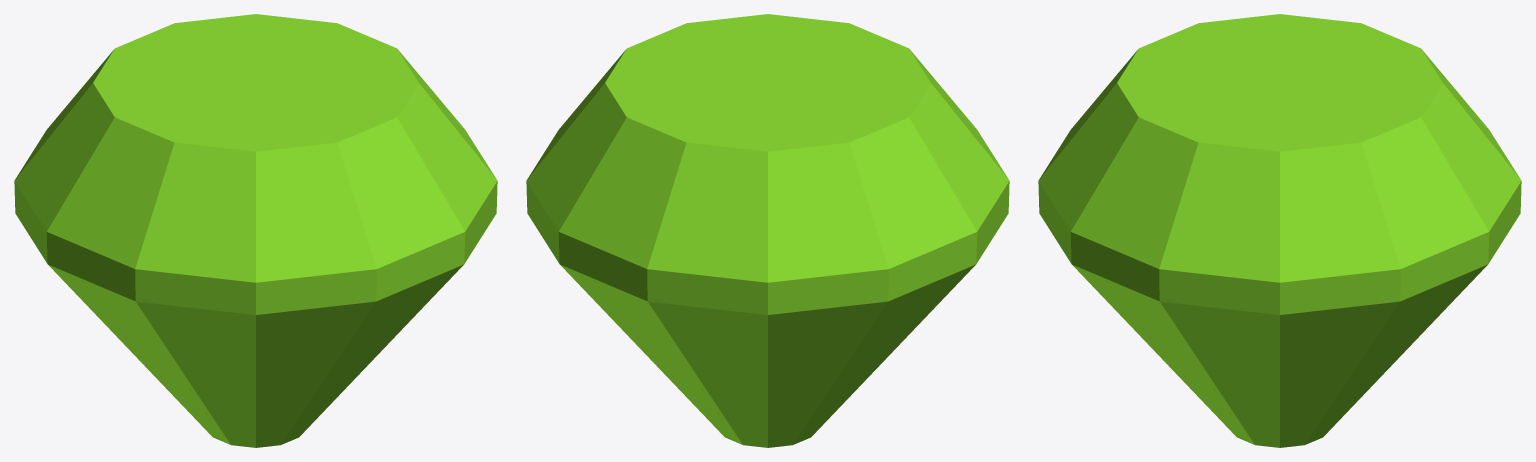
Rendered from Crystal_Green_D.fbx.
The picture shows the model from 3 angles, left to right: view 1: azimuth 30°, elevation 25°; view 2: azimuth 150°, elevation 25°; view 3: azimuth 270°, elevation 25°; orthographic projection.
Parts seen in each view (by area): view 1: Crystal_Green_D; view 2: Crystal_Green_D; view 3: Crystal_Green_D.
Part boxes in pixels (bbox=[...]): Crystal_Green_D: bbox=[14, 14, 497, 447]; Crystal_Green_D: bbox=[526, 14, 1009, 447]; Crystal_Green_D: bbox=[1038, 14, 1521, 447].
Size of the model in its own units: 91.8 by 72.12 by 91.8.
